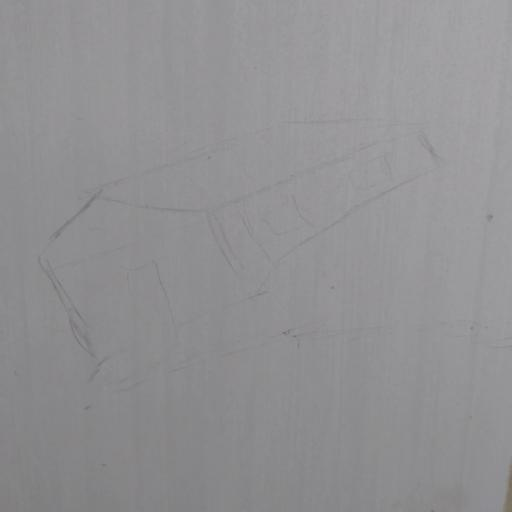stain: (43, 103, 442, 404)
